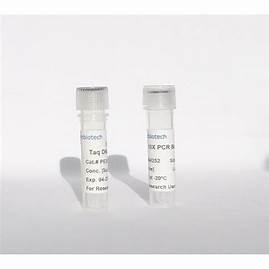Syringe: (66, 77, 120, 220), (135, 79, 182, 218)
